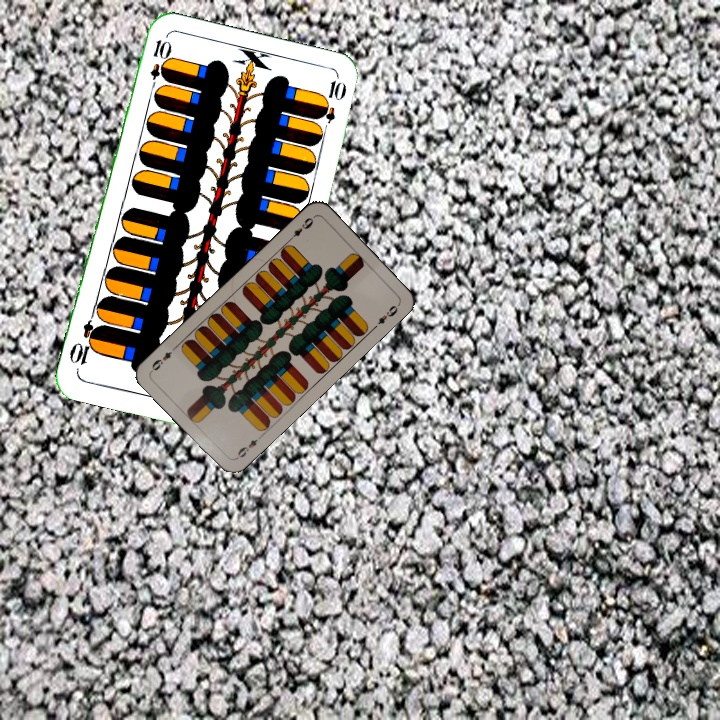E10: (146, 35, 171, 94)
E9: (284, 212, 317, 244), (231, 431, 265, 462)
